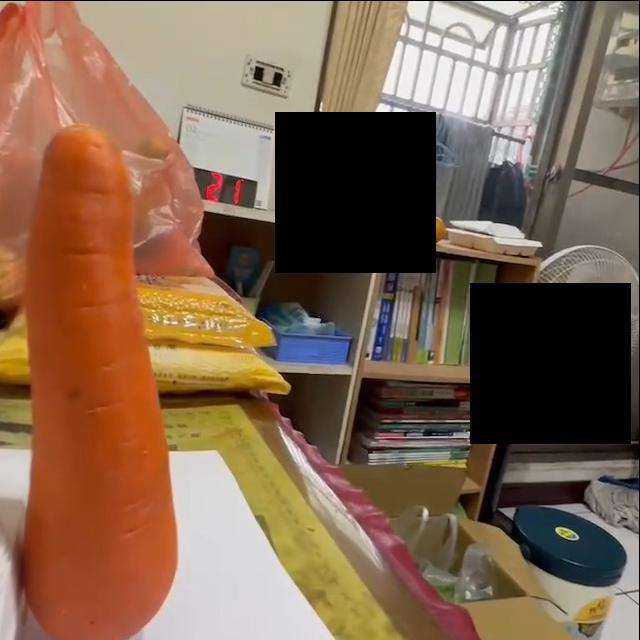carrot: (26, 125, 179, 640)
